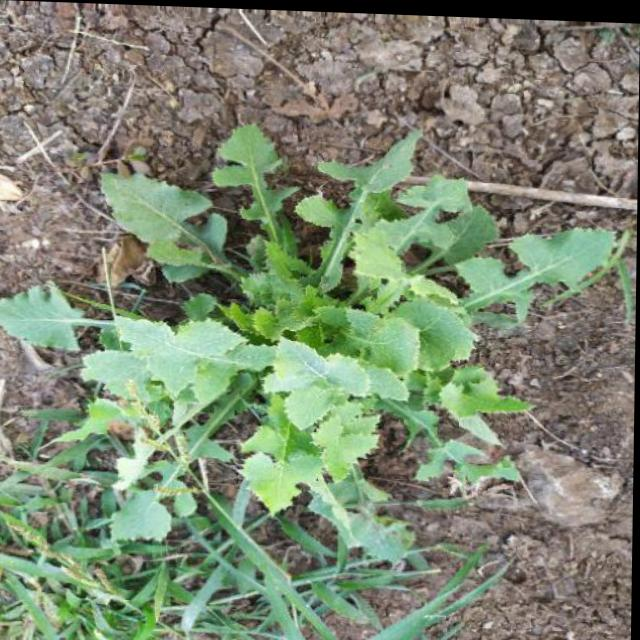weed: (31, 138, 615, 555)
